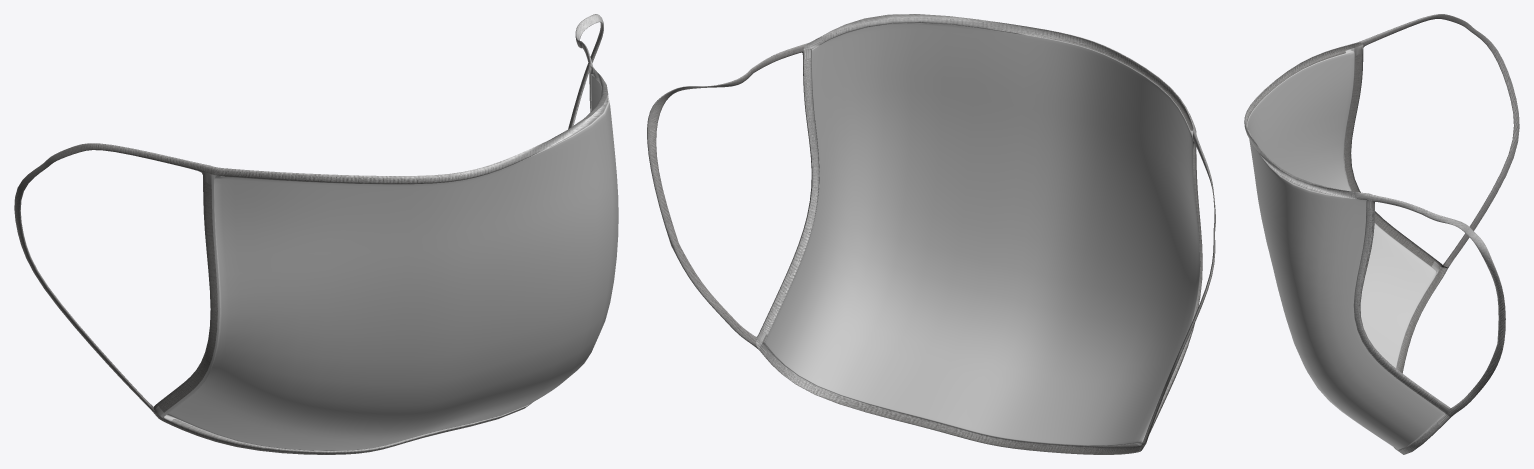
3 renders of one model, left to right at view 1: azimuth 30°, elevation 25°; view 2: azimuth 150°, elevation 25°; view 3: azimuth 270°, elevation 25°, orthographic. The views are drawn at different scales.
Parts seen in each view (by area): view 1: Maski; view 2: Maski; view 3: Maski.
Boxes of the visible parts, x1,y1,x2,y2 form: Maski: (14, 14, 618, 454); Maski: (647, 14, 1215, 454); Maski: (1244, 14, 1519, 454).
Size of the model in its own units: 25.06 by 14.57 by 12.82.
